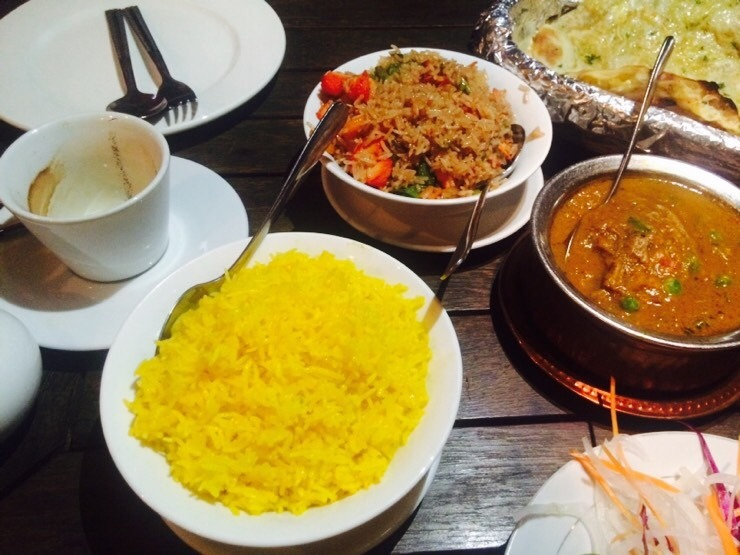plain rice: (152, 277, 414, 490), (328, 73, 520, 174)
